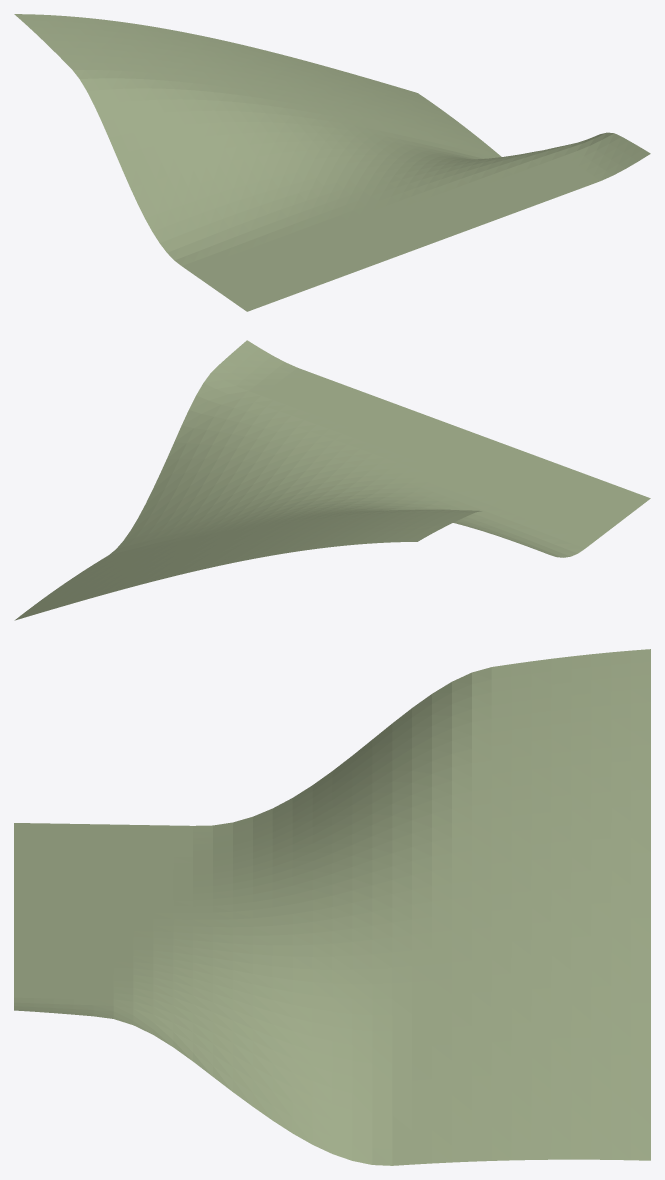
The model's file is alpine-10-2.glb.
3 views of the same model, one above another, from view 1: azimuth 30°, elevation 25°; view 2: azimuth 150°, elevation 25°; view 3: azimuth 270°, elevation 25° (orthographic). The views are drawn at different scales.
Visible parts, largest first — view 1: alpine-10-2; view 2: alpine-10-2; view 3: alpine-10-2.
Part boxes in pixels (x1,y1,x2,y2): alpine-10-2: (14,14,650,311); alpine-10-2: (14,340,650,620); alpine-10-2: (14,649,650,1165).
Size of the model in its own units: 256 by 110 by 256.
